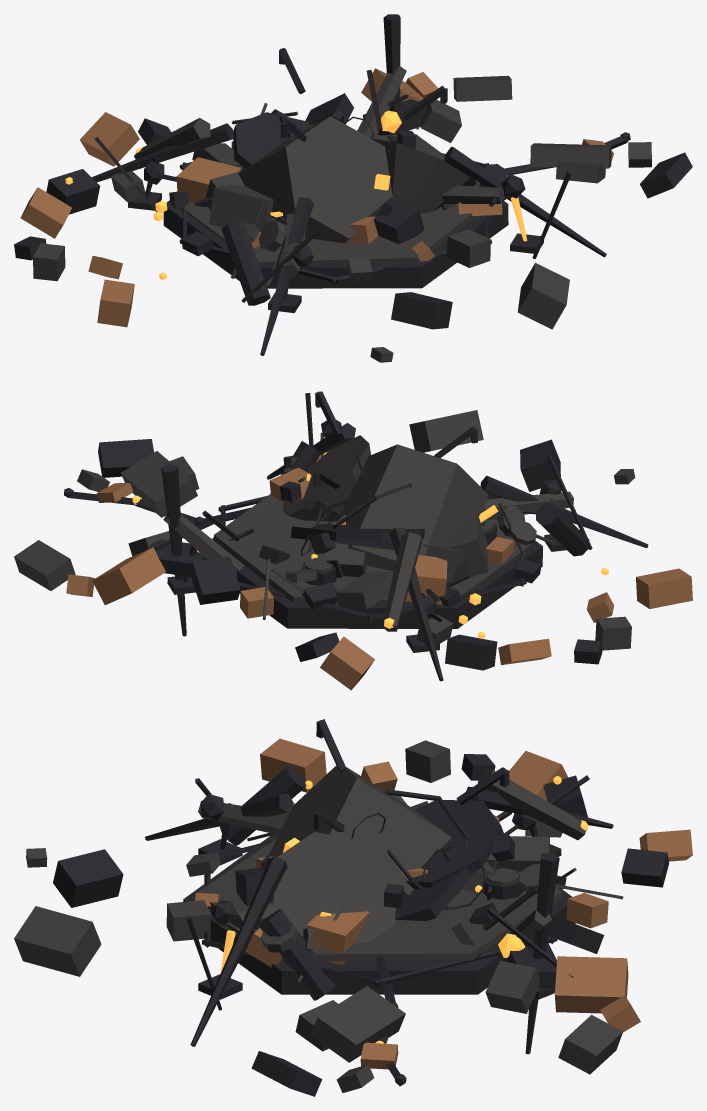
File: Wreck_DataSiphon.fbx
3 renders of one model, top to bottom at view 1: azimuth 30°, elevation 25°; view 2: azimuth 150°, elevation 25°; view 3: azimuth 270°, elevation 25°, orthographic. The views are drawn at different scales.
Visible parts, largest first — view 1: Wreck_DataSiphon; view 2: Wreck_DataSiphon; view 3: Wreck_DataSiphon.
Part boxes in pixels (box(x1,y1,x2,y2)): Wreck_DataSiphon: box(14, 14, 692, 362); Wreck_DataSiphon: box(14, 391, 692, 690); Wreck_DataSiphon: box(14, 719, 692, 1096).
Bounding box in the file's own units: 3.02 × 0.9358 × 2.59.
